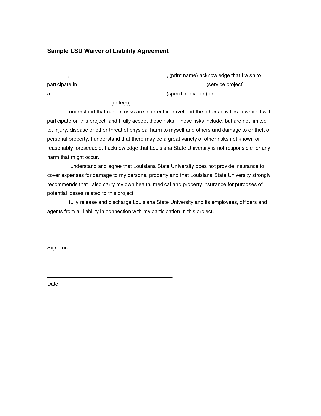textline: (46, 268, 175, 280), (45, 233, 175, 244), (51, 89, 167, 99), (77, 80, 208, 88), (68, 70, 169, 80), (44, 98, 115, 106)
